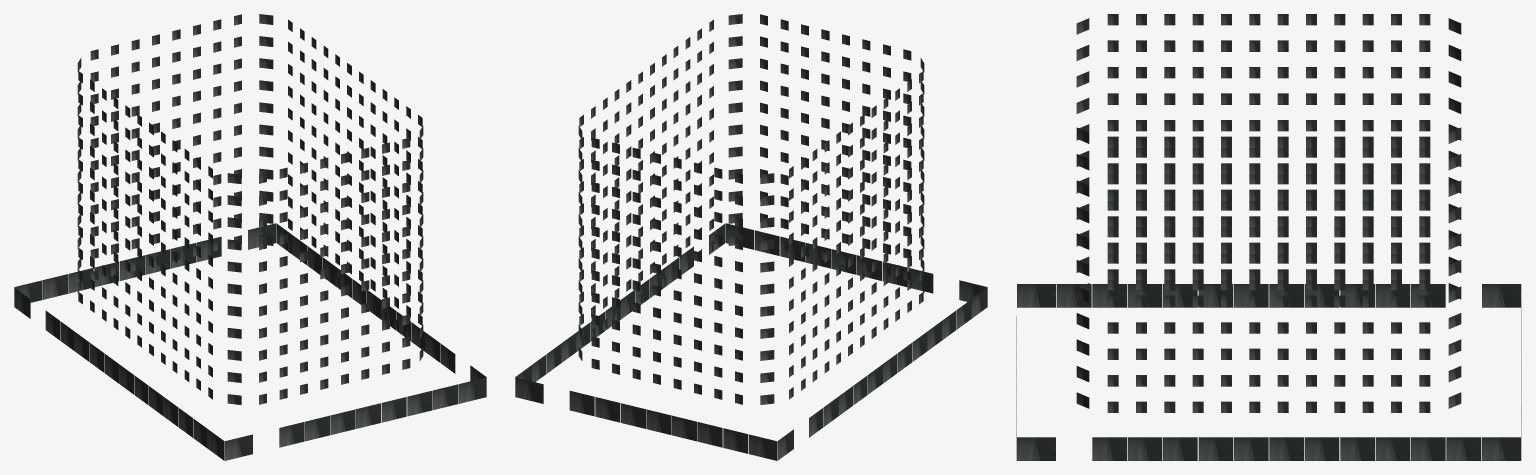
Rendered from TRANS_Building_12stores_CommercialCentre.obj.
The picture shows the model from 3 angles, left to right: view 1: azimuth 30°, elevation 25°; view 2: azimuth 150°, elevation 25°; view 3: azimuth 270°, elevation 25°; orthographic projection. The views are drawn at different scales.
Parts seen in each view (by area): view 1: TRANS_Building_12stores_CommercialCentre; view 2: TRANS_Building_12stores_CommercialCentre; view 3: TRANS_Building_12stores_CommercialCentre.
Part boxes in pixels (<box>): TRANS_Building_12stores_CommercialCentre: <box>14,14,486,460</box>; TRANS_Building_12stores_CommercialCentre: <box>515,14,987,460</box>; TRANS_Building_12stores_CommercialCentre: <box>1016,14,1521,460</box>.
Size of the model in its own units: 13.46 by 12.62 by 18.71.
